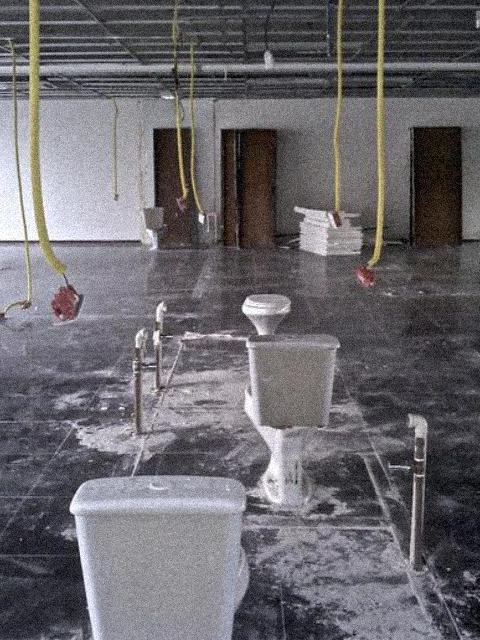Sanitario: (69, 474, 263, 640), (239, 329, 361, 511)
